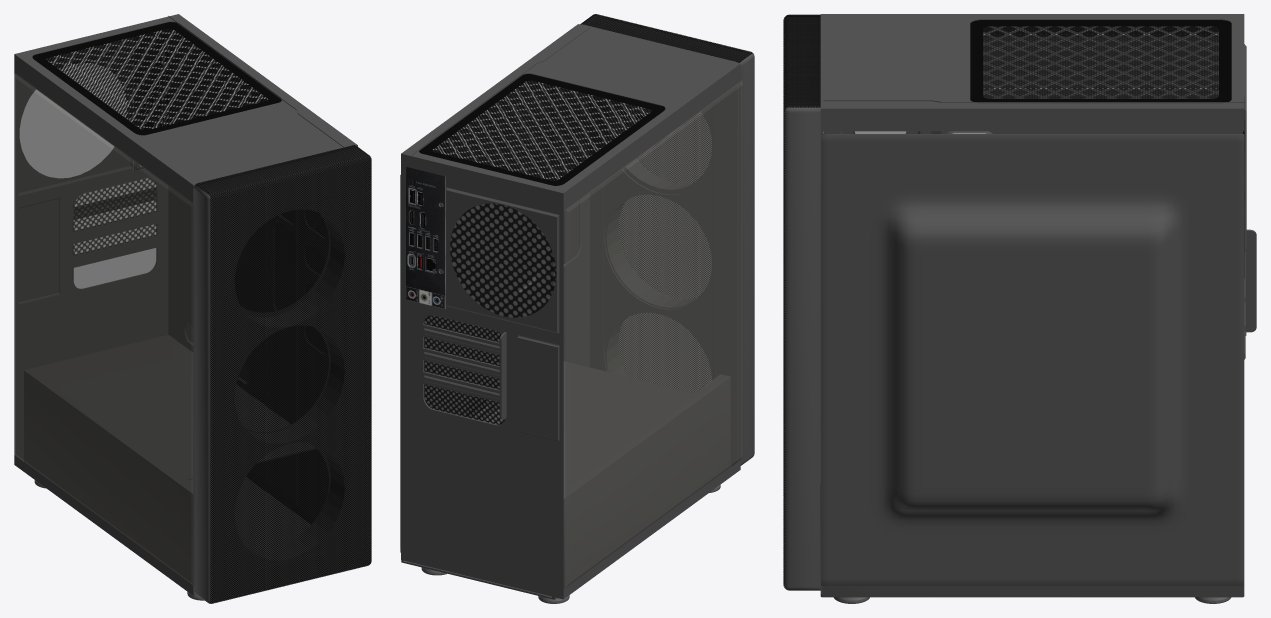
The model's file is case.glb.
The picture shows the model from 3 angles, left to right: view 1: azimuth 30°, elevation 25°; view 2: azimuth 150°, elevation 25°; view 3: azimuth 270°, elevation 25°; orthographic projection. The views are drawn at different scales.
Parts seen in each view (by area): view 1: front, panel, case, front_fan_blocker, psu_cover, case-motherboard-plate, filter, case-back-plate, io; view 2: case, panel, psu_cover, front, front_fan_blocker, case-motherboard-plate, filter, io, case-back-plate, Cube.001; view 3: case-back-plate, case, front, filter, psu_cover, front_fan_blocker, case-motherboard-plate, Cube.001, panel.
Boxes of the visible parts, <box> form: front: <box>193,145,371,603</box>; panel: <box>15,73,194,585</box>; case: <box>14,14,357,595</box>; front_fan_blocker: <box>197,147,369,601</box>; psu_cover: <box>24,335,315,585</box>; case-motherboard-plate: <box>168,16,343,518</box>; filter: <box>32,22,281,135</box>; case-back-plate: <box>186,209,327,382</box>; io: <box>133,29,168,171</box>; case: <box>401,24,740,599</box>; panel: <box>565,80,742,587</box>; psu_cover: <box>401,361,731,599</box>; front: <box>580,14,754,465</box>; front_fan_blocker: <box>579,16,750,464</box>; case-motherboard-plate: <box>411,27,589,420</box>; filter: <box>419,74,665,185</box>; io: <box>406,166,445,309</box>; case-back-plate: <box>400,89,578,552</box>; Cube.001: <box>499,332,506,419</box>; case-back-plate: <box>821,134,1244,585</box>; case: <box>820,14,1246,593</box>; front: <box>783,14,820,590</box>; filter: <box>970,20,1231,101</box>; psu_cover: <box>820,484,1244,597</box>; front_fan_blocker: <box>787,17,822,483</box>; case-motherboard-plate: <box>823,100,1244,133</box>; Cube.001: <box>1245,229,1256,332</box>; panel: <box>823,38,1218,133</box>.
Bounding box in the file's own units: 0.6244 × 1.37 × 1.17.
Materials: 16 (5 with a texture image).
